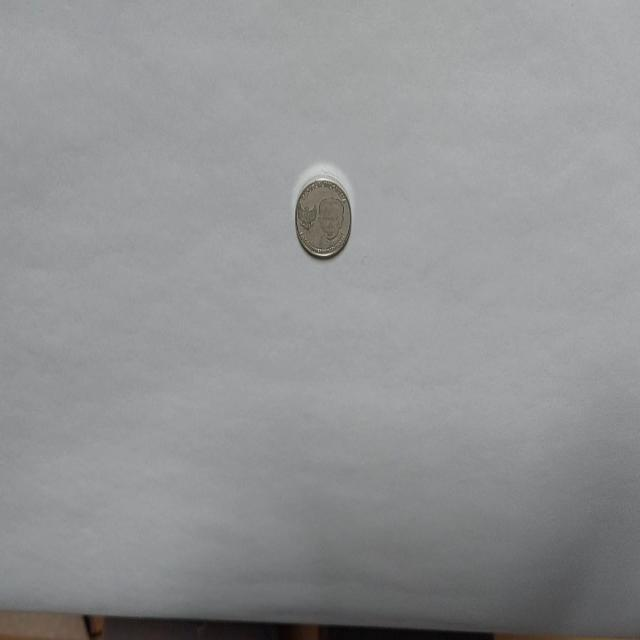seratus rupiah: (294, 173, 352, 260)
